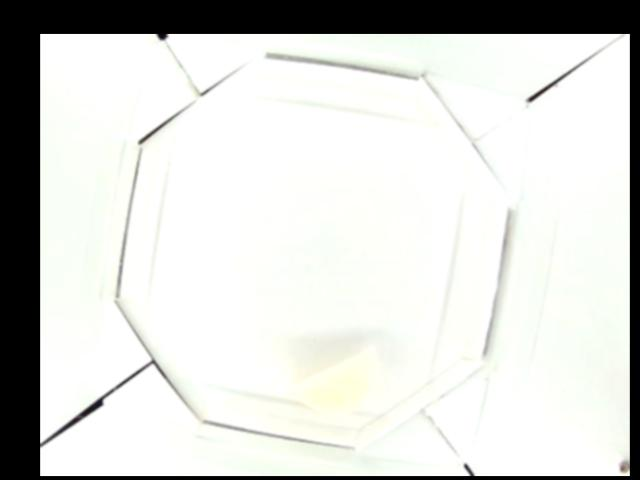Mooli: (290, 348, 382, 417)
